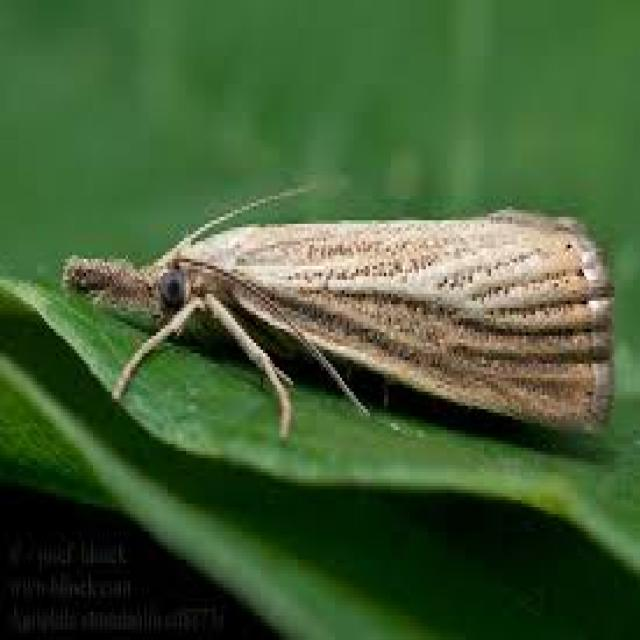yellow-stem-borer: (22, 165, 634, 478)
